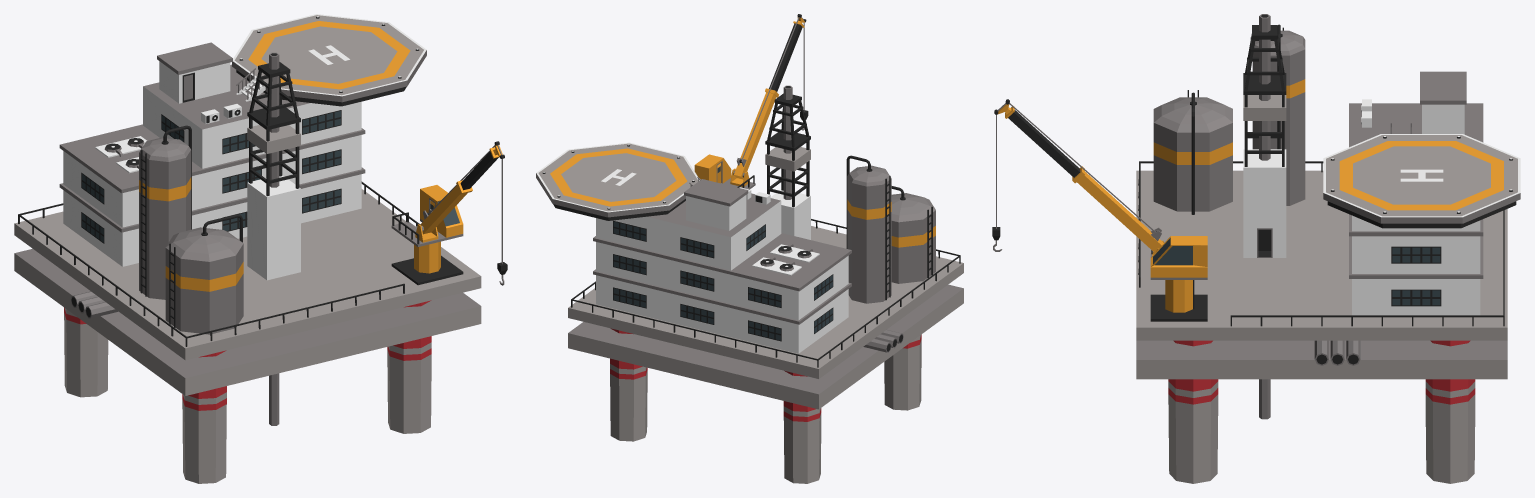
Rendered from buildings_sea-refinery.fbx.
3 views of the same model, side by side, from view 1: azimuth 30°, elevation 25°; view 2: azimuth 150°, elevation 25°; view 3: azimuth 270°, elevation 25° (orthographic). The views are drawn at different scales.
Parts seen in each view (by area): view 1: buildings_sea_refinery; view 2: buildings_sea_refinery; view 3: buildings_sea_refinery.
Boxes of the visible parts, x1,y1,x2,y2 form: buildings_sea_refinery: [14, 14, 507, 483]; buildings_sea_refinery: [536, 14, 963, 483]; buildings_sea_refinery: [992, 14, 1520, 483].
Size of the model in its own units: 174 by 169 by 200.
